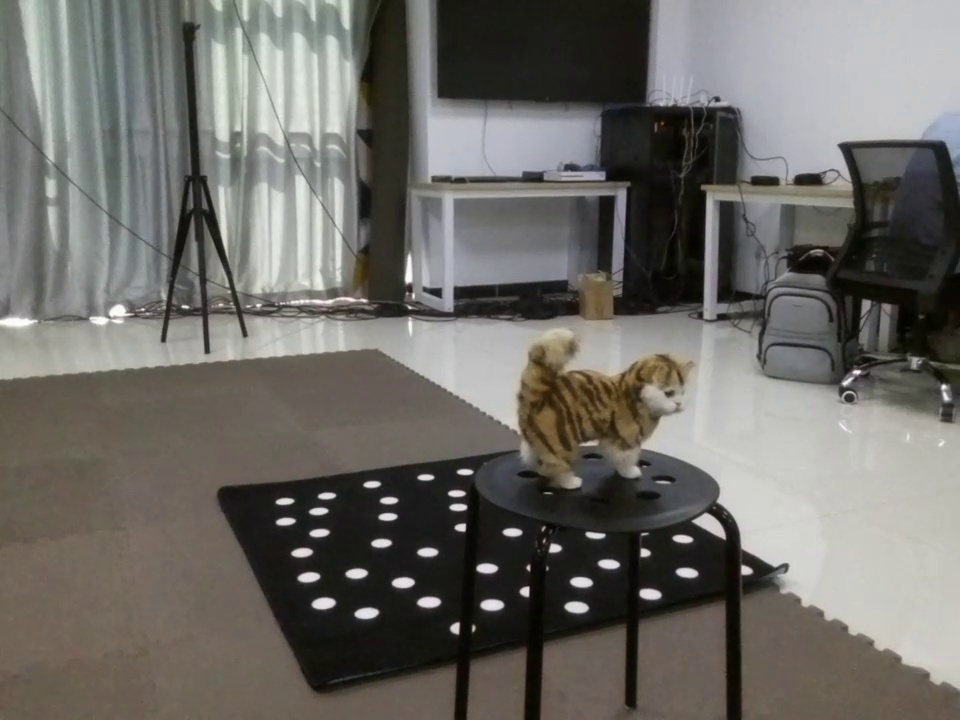cat: (501, 328, 707, 483)
